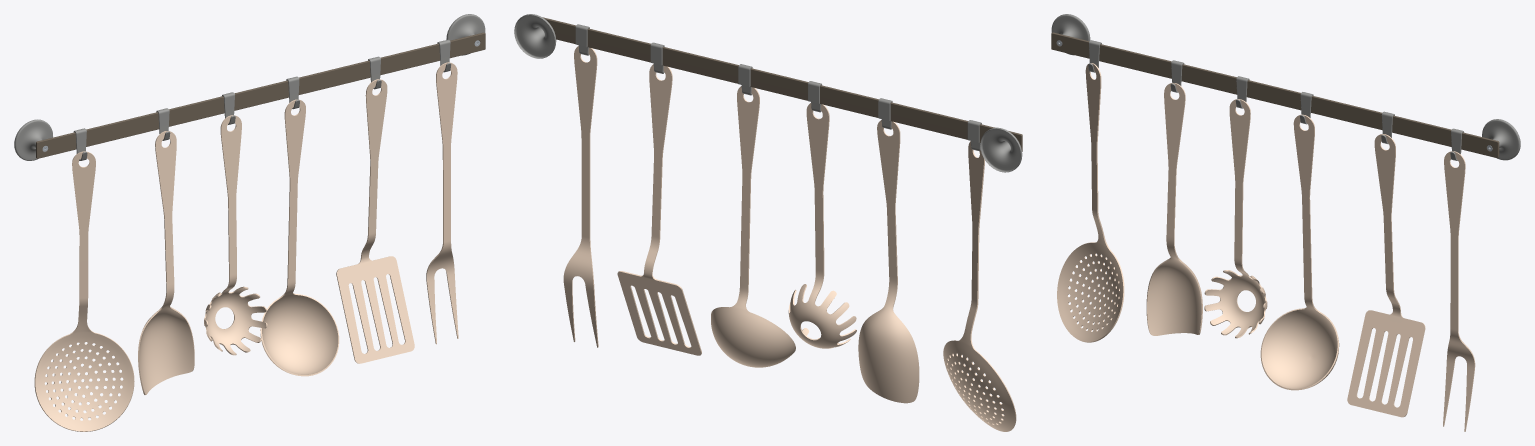
The model's file is utensils.gltf.
3 renders of one model, left to right at view 1: azimuth 30°, elevation 25°; view 2: azimuth 150°, elevation 25°; view 3: azimuth 330°, elevation 25°, orthographic. The views are drawn at different scales.
Visible parts, largest first — view 1: A23DOBJ_001, A23DOBJ_007, A23DOBJ_004, A23DOBJ_005, A23DOBJ_002, A23DOBJ_003, A23DOBJ_006; view 2: A23DOBJ_001, A23DOBJ_002, A23DOBJ_004, A23DOBJ_005, A23DOBJ_007, A23DOBJ_003, A23DOBJ_006; view 3: A23DOBJ_001, A23DOBJ_004, A23DOBJ_005, A23DOBJ_007, A23DOBJ_002, A23DOBJ_003, A23DOBJ_006.
Boxes of the visible parts, <box> form: A23DOBJ_001: <box>14,14,485,160</box>; A23DOBJ_007: <box>34,151,134,431</box>; A23DOBJ_004: <box>260,99,339,376</box>; A23DOBJ_005: <box>336,79,414,363</box>; A23DOBJ_002: <box>138,131,194,394</box>; A23DOBJ_003: <box>204,115,267,355</box>; A23DOBJ_006: <box>426,62,458,344</box>; A23DOBJ_001: <box>514,14,1022,172</box>; A23DOBJ_002: <box>858,120,919,403</box>; A23DOBJ_004: <box>711,86,795,367</box>; A23DOBJ_005: <box>617,64,701,355</box>; A23DOBJ_007: <box>943,141,1016,431</box>; A23DOBJ_003: <box>788,103,856,348</box>; A23DOBJ_006: <box>563,46,598,347</box>; A23DOBJ_001: <box>1051,14,1520,160</box>; A23DOBJ_004: <box>1260,114,1339,390</box>; A23DOBJ_005: <box>1347,134,1425,417</box>; A23DOBJ_007: <box>1057,63,1124,342</box>; A23DOBJ_002: <box>1146,83,1202,335</box>; A23DOBJ_003: <box>1204,99,1267,338</box>; A23DOBJ_006: <box>1443,151,1475,431</box>.
Size of the model in its own units: 0.7606 by 0.4764 by 0.0897.
4 materials, 4 textured.
